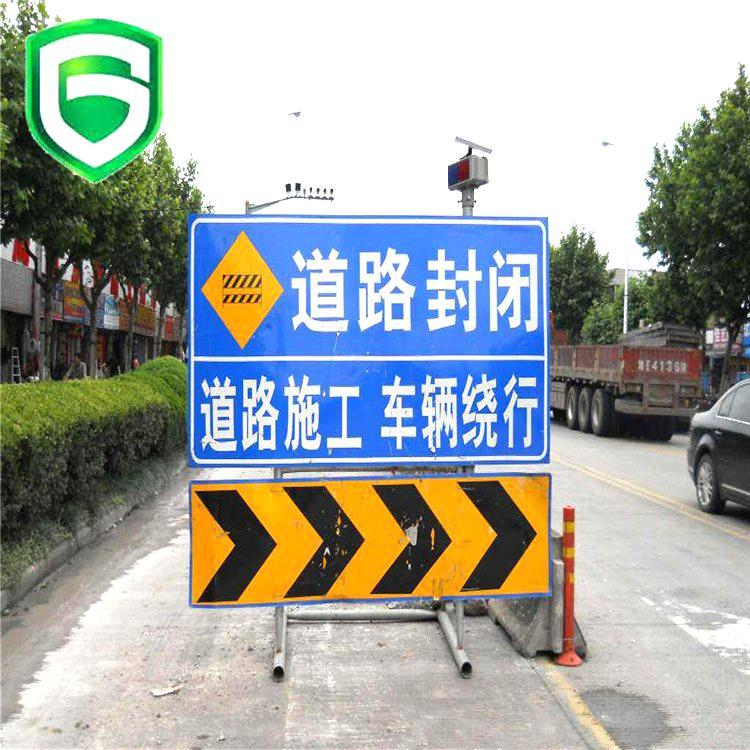sign: (192, 217, 553, 600)
